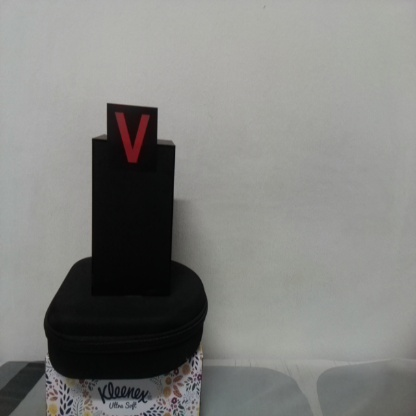id_11: (107, 105, 158, 170)
